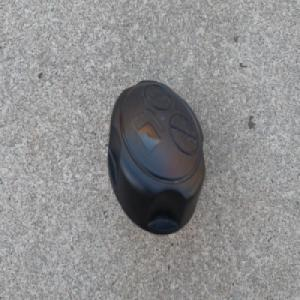FuelCap: (106, 78, 206, 237)
